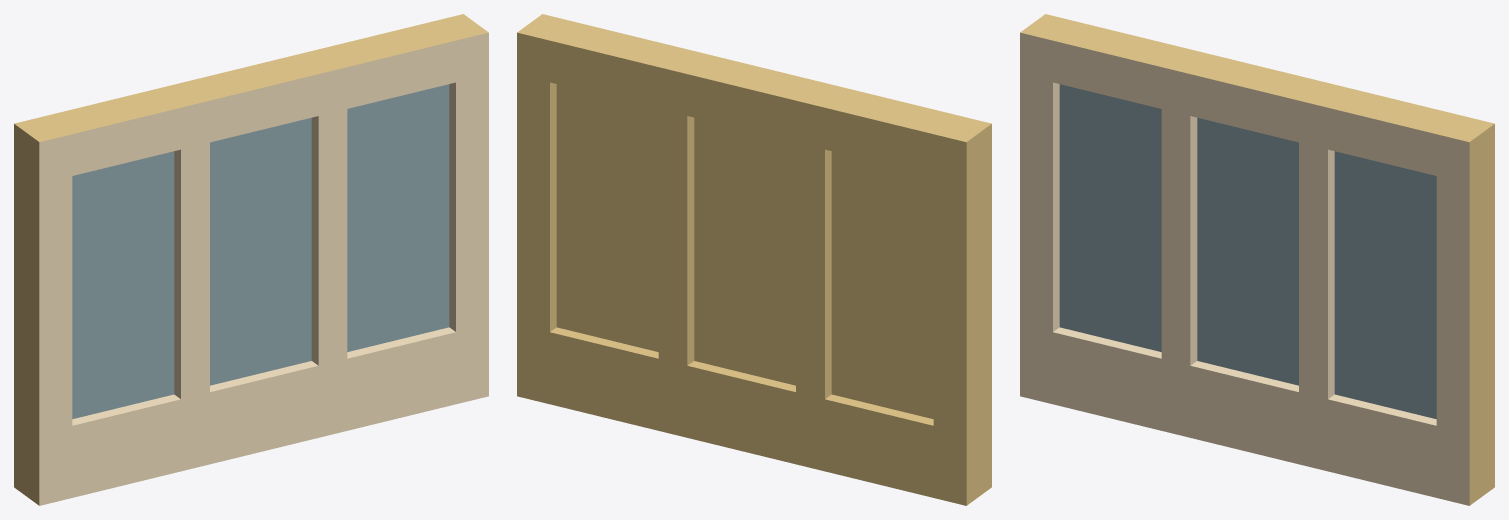
The model's file is SalleRandom_Mur00.fbx.
The picture shows the model from 3 angles, left to right: view 1: azimuth 30°, elevation 25°; view 2: azimuth 150°, elevation 25°; view 3: azimuth 330°, elevation 25°; orthographic projection.
Parts seen in each view (by area): view 1: Mur00; view 2: Mur00; view 3: Mur00.
Part boxes in pixels (box(x1,y1,x2,y2)): Mur00: box(14, 14, 488, 505); Mur00: box(517, 14, 991, 505); Mur00: box(1020, 14, 1494, 505).
Bounding box in the file's own units: 8.39 × 6.49 × 0.8215.
